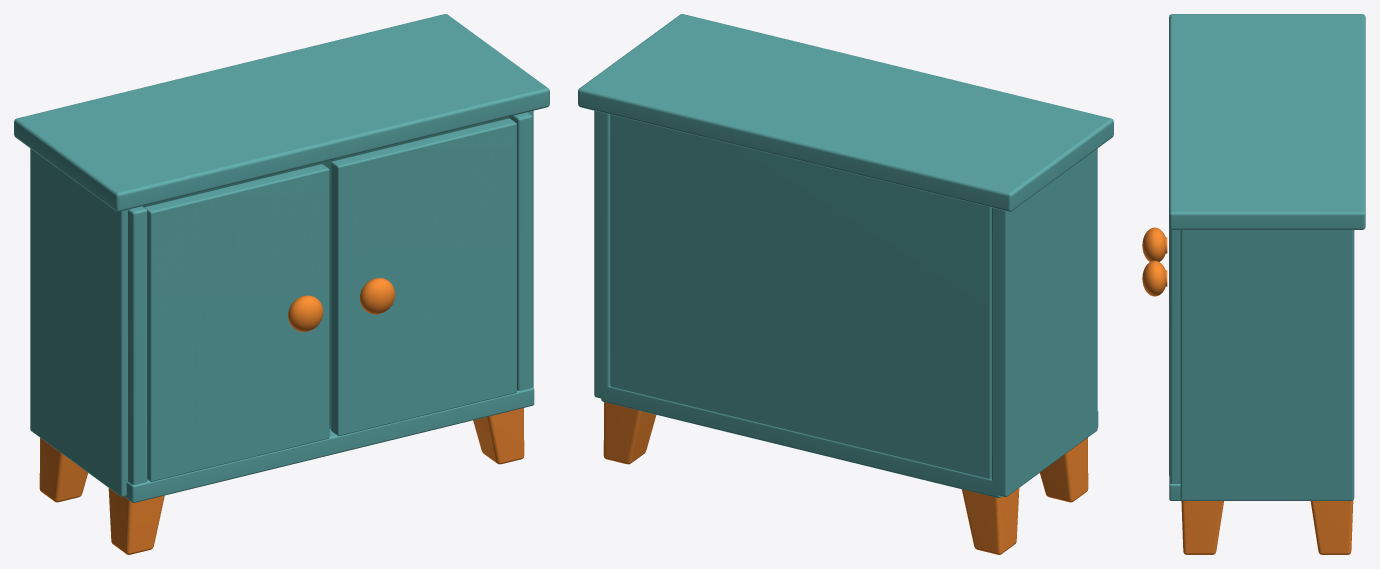
3 views of the same model, side by side, from view 1: azimuth 30°, elevation 25°; view 2: azimuth 150°, elevation 25°; view 3: azimuth 270°, elevation 25° (orthographic). The views are drawn at different scales.
Visible parts, largest first — view 1: Overhanging thick top, Right flat wooden door, Left flat wooden door, Left side panel, Front lower rail, Left front stile, Right front stile, Subtle vertical door wood grain, Front left orange tapered foot, Front right orange tapered foot, Rear left orange tapered foot, Dark interior behind door gaps (+2 smaller); view 2: Rear panel, Overhanging thick top, Left side panel, Cabinet bottom, Right side panel, Rear left orange tapered foot, Rear right orange tapered foot, Front left orange tapered foot; view 3: Right side panel, Overhanging thick top, Right front stile, Rear right orange tapered foot, Front right orange tapered foot, Round orange door knob.001, Round orange door knob, Right flat wooden door.
Part boxes in pixels (box(x1,y1,x2,y2)): Overhanging thick top: box(14, 14, 549, 211); Right flat wooden door: box(331, 118, 516, 436); Left flat wooden door: box(144, 164, 329, 481); Left side panel: box(30, 148, 128, 496); Front lower rail: box(125, 387, 534, 502); Left front stile: box(128, 206, 147, 484); Right front stile: box(511, 112, 532, 390); Subtle vertical door wood grain: box(156, 131, 510, 451); Front left orange tapered foot: box(108, 488, 164, 554); Front right orange tapered foot: box(473, 408, 524, 464); Rear left orange tapered foot: box(39, 438, 87, 502); Dark interior behind door gaps: box(142, 117, 508, 428); Rear panel: box(610, 114, 991, 478); Overhanging thick top: box(578, 14, 1113, 211); Left side panel: box(991, 148, 1097, 496); Cabinet bottom: box(601, 385, 1001, 498); Right side panel: box(594, 110, 610, 398); Rear left orange tapered foot: box(962, 488, 1019, 554); Rear right orange tapered foot: box(603, 402, 656, 464); Front left orange tapered foot: box(1040, 438, 1088, 502); Right side panel: box(1180, 230, 1354, 500); Overhanging thick top: box(1169, 14, 1365, 229); Right front stile: box(1170, 229, 1180, 483); Rear right orange tapered foot: box(1310, 500, 1353, 554); Front right orange tapered foot: box(1181, 501, 1223, 554); Round orange door knob.001: box(1142, 260, 1165, 296); Round orange door knob: box(1142, 227, 1165, 261); Right flat wooden door: box(1169, 227, 1170, 476).
Size of the model in its own units: 2.48 by 2.03 by 1.17.
